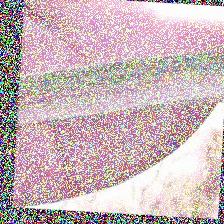Leaf_Blast: (23, 73, 224, 119)
